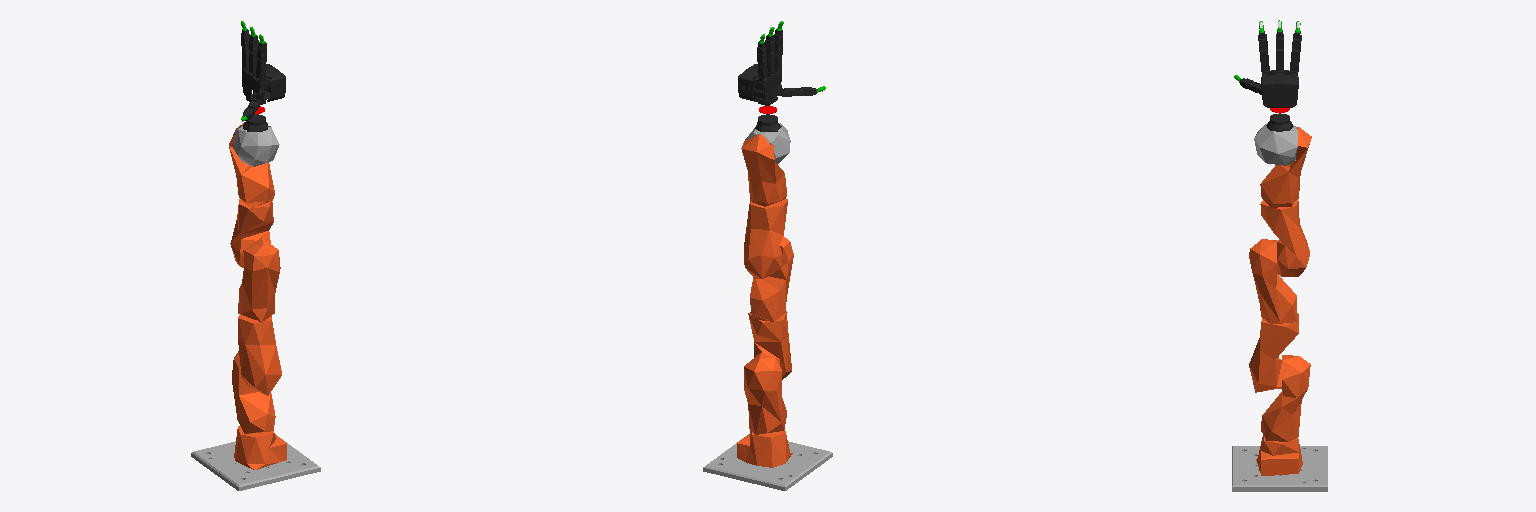
--- Facts derived from the render (not from the file) ---
The picture shows the robot from 3 angles, left to right: view 1: azimuth 30°, elevation 25°; view 2: azimuth 150°, elevation 25°; view 3: azimuth 270°, elevation 25°; orthographic projection.
Robot: lbr4 — 54 links, 53 joints (23 revolute, 30 fixed); root link world; default pose: all joints at 0 but 1 set to mid-range because 0 is outside their limits (thumb_joint_0 = 0.9915).
Visible links, largest first — view 1: lbr4_base_link, lbr4_3_link, lbr4_2_link, lbr4_1_link, lbr4_4_link, lbr4_0_link, lbr4_5_link, lbr4_6_link, palm_link; view 2: lbr4_base_link, lbr4_1_link, lbr4_4_link, lbr4_5_link, lbr4_3_link, lbr4_2_link, lbr4_0_link, palm_link, lbr4_6_link; view 3: lbr4_base_link, lbr4_1_link, lbr4_3_link, lbr4_4_link, lbr4_2_link, lbr4_5_link, lbr4_0_link, lbr4_6_link, palm_link.
Boxes of the visible links, left/top/right/bottom form: lbr4_base_link: left=191, top=437, right=320, bottom=490; lbr4_3_link: left=238, top=237, right=280, bottom=322; lbr4_2_link: left=238, top=314, right=281, bottom=395; lbr4_1_link: left=232, top=351, right=275, bottom=433; lbr4_4_link: left=230, top=199, right=273, bottom=267; lbr4_0_link: left=234, top=426, right=286, bottom=469; lbr4_5_link: left=229, top=122, right=274, bottom=207; lbr4_6_link: left=233, top=126, right=279, bottom=166; palm_link: left=242, top=64, right=285, bottom=104; lbr4_base_link: left=703, top=434, right=832, bottom=490; lbr4_1_link: left=744, top=353, right=786, bottom=434; lbr4_4_link: left=744, top=199, right=787, bottom=278; lbr4_5_link: left=741, top=134, right=786, bottom=206; lbr4_3_link: left=750, top=236, right=793, bottom=321; lbr4_2_link: left=748, top=311, right=791, bottom=379; lbr4_0_link: left=737, top=430, right=792, bottom=467; palm_link: left=738, top=64, right=781, bottom=105; lbr4_6_link: left=745, top=123, right=790, bottom=163; lbr4_base_link: left=1232, top=446, right=1327, bottom=491; lbr4_1_link: left=1261, top=355, right=1310, bottom=441; lbr4_3_link: left=1249, top=239, right=1297, bottom=324; lbr4_4_link: left=1260, top=200, right=1309, bottom=276; lbr4_2_link: left=1249, top=313, right=1298, bottom=392; lbr4_5_link: left=1260, top=127, right=1311, bottom=207; lbr4_0_link: left=1256, top=435, right=1302, bottom=475; lbr4_6_link: left=1254, top=123, right=1297, bottom=165; palm_link: left=1261, top=70, right=1298, bottom=107.
Bounding box of the posed robot: 0.3 × 0.3 × 1.53 m (x, y, z).
38 mesh visuals loaded from 24 distinct referenced files (21 binary STL); not drawn: 3 (reference not matched to a file when rendering).

The robot description file, URDF, robot "lbr4":
<?xml version="1.0" encoding="utf-8"?>
<!-- =================================================================================== -->
<!-- |    This document was autogenerated by xacro from lbr4.robot.xacro               | -->
<!-- |    EDITING THIS FILE BY HAND IS NOT RECOMMENDED                                 | -->
<!-- =================================================================================== -->
<robot name="lbr4">
  <!-- ========================================================================================== -->
  <material name="Green">
    <color rgba="0.0 0.8 0.0 1.0"/>
  </material>
  <material name="LBR4_Grey">
    <color rgba="0.7 0.7 0.7 1.0"/>
  </material>
  <material name="DarkGrey">
    <color rgba="0.3 0.3 0.3 1.0"/>
  </material>
  <material name="Grey2">
    <color rgba="0.9 0.9 0.9 1.0"/>
  </material>
  <material name="Red">
    <color rgba="0.8 0.5 0.5 1.0"/>
  </material>
  <material name="LBR4_White">
    <color rgba="1.0 1.0 1.0 1.0"/>
  </material>
  <material name="LBR4_Black">
    <color rgba="0.2 0.2 0.2 1.0"/>
  </material>
  <material name="Orange">
    <color rgba="1.0 0.423529411765 0.196078431373 1.0"/>
  </material>
  <selfCollide>true</selfCollide>
  <link name="lbr4_base_link">
    <visual>
      <origin rpy="0 0 0" xyz="0 0 0"/>
      <geometry>
        <mesh filename="package://ll4ma_robots_description/meshes/lbr4/base.stl"/>
      </geometry>
      <material name="LBR4_Grey"/>
    </visual>
    <collision>
      <origin rpy="0 0 0" xyz="0 0 0"/>
      <geometry>
        <mesh filename="package://ll4ma_robots_description/meshes/lbr4/base.stl"/>
      </geometry>
    </collision>
  </link>
  <gazebo reference="lbr4_base_link">
    <material>Gazebo/Grey</material>
  </gazebo>
  <!-- joint between {parent} and arm_0_link -->
  <joint name="lbr4_base_link_base" type="fixed">
    <origin rpy="0 0 0" xyz="0.0015 -0.0015 0.019"/>
    <parent link="lbr4_base_link"/>
    <child link="lbr4_0_link"/>
  </joint>
  <link name="lbr4_0_link">
    <inertial>
      <origin rpy="0.503323678478 -0.189146421623 0.277526064738" xyz="0.0099787706820535227 -0.00048169854600738104 -0.25485509312792326"/>
      <mass value="1.5"/>
      <inertia ixx="0.00805112828804" ixy="0" ixz="0" iyy="0.00845152236845" iyz="0" izz="0.00863585824764"/>
    </inertial>
    <visual>
      <origin rpy="0 0 3.14159265359" xyz="0 0 0"/>
      <geometry>
        <mesh filename="package://ll4ma_robots_description/meshes/lbr4/link0.stl"/>
      </geometry>
      <material name="Orange"/>
    </visual>
    <collision>
      <!--origin xyz="0 0 0.0515" rpy="0 0 0" /-->
      <origin rpy="0 0 3.14159265359" xyz="0 0 0"/>
      <geometry>
        <!--cylinder length="0.103" radius="0.08"/-->
        <mesh filename="package://ll4ma_robots_description/meshes/lbr4/collision/link0.stl"/>
      </geometry>
    </collision>
  </link>
  <!-- joint between arm_0_link and arm_1_link -->
  <joint name="lbr4_j0" type="revolute">
    <parent link="lbr4_0_link"/>
    <child link="lbr4_1_link"/>
    <origin rpy="0 0 0" xyz="0 0 0.103"/>
    <axis xyz="0 0 1"/>
    <dynamics damping="5"/>
    <limit effort="176" lower="-2.879" upper="2.879" velocity="1.91"/>
  </joint>
  <link name="lbr4_1_link">
    <inertial>
      <origin rpy="0.239538165056 0.00537995201801 0.0492155584082" xyz="2.1826998880744087e-05 -0.021623840412335664 -0.07915171924289198"/>
      <mass value="1.5"/>
      <inertia ixx="0.0129545076394" ixy="0" ixz="0" iyy="0.0128178432409" iyz="0" izz="0.00442072765916"/>
    </inertial>
    <visual>
      <origin rpy="0 0 3.14159265359" xyz="0 0 0"/>
      <geometry>
        <mesh filename="package://ll4ma_robots_description/meshes/lbr4/link1.stl"/>
      </geometry>
      <material name="Orange"/>
    </visual>
    <collision>
      <!--origin xyz="0 0.017 0.135" rpy="0 0 0" /-->
      <origin rpy="0 0 3.14159265359" xyz="0 0 0"/>
      <geometry>
        <!--box size="0.12 0.16 0.27"/-->
        <mesh filename="package://ll4ma_robots_description/meshes/lbr4/collision/link1.stl"/>
      </geometry>
    </collision>
  </link>
  <!-- joint between arm_1_link and arm_2_link -->
  <joint name="lbr4_j1" type="revolute">
    <parent link="lbr4_1_link"/>
    <child link="lbr4_2_link"/>
    <dynamics damping="5"/>
    <origin rpy="0 0 0" xyz="0 -0.002 0.208"/>
    <axis xyz="0 -1 0"/>
    <limit effort="176" lower="-2.007" upper="2.007" velocity="1.91"/>
  </joint>
  <link name="lbr4_2_link">
    <inertial>
      <origin rpy="0.252444092172 -0.0167820344187 0.0575928285281" xyz="-0.0010097053542516513 0.028478464648332931 0.082033627936009448"/>
      <mass value="1.5"/>
      <inertia ixx="0.0132950018592" ixy="0" ixz="0" iyy="0.0131003199685" iyz="0" izz="0.0044657387969"/>
    </inertial>
    <visual>
      <origin rpy="0 0 3.14159265359" xyz="0 0 0"/>
      <geometry>
        <mesh filename="package://ll4ma_robots_description/meshes/lbr4/link2.stl"/>
      </geometry>
      <material name="Orange"/>
    </visual>
    <collision>
      <!--origin xyz="0 -0.017 0.075" rpy="0 0 0" /-->
      <origin rpy="0 0 3.14159265359" xyz="0 0 0"/>
      <geometry>
        <!--box size="0.12 0.16 0.27"/-->
        <mesh filename="package://ll4ma_robots_description/meshes/lbr4/collision/link2.stl"/>
      </geometry>
    </collision>
  </link>
  <!-- joint between arm_2_link and arm_3_link -->
  <joint name="lbr4_j2" type="revolute">
    <parent link="lbr4_2_link"/>
    <child link="lbr4_3_link"/>
    <dynamics damping="5"/>
    <origin rpy="0 0 0" xyz="0 0 0.1915"/>
    <axis xyz="0 0 1"/>
    <limit effort="100" lower="-2.879" upper="2.879" velocity="2.234"/>
  </joint>
  <link name="lbr4_3_link">
    <inertial>
      <origin rpy="-0.211279484805 -0.0186487662306 -0.00721347462905" xyz="-0.00068512472584392442 0.022787627643261723 -0.078806475454300237"/>
      <mass value="1.5"/>
      <inertia ixx="0.0127763513867" ixy="0" ixz="0" iyy="0.0128011372133" iyz="0" izz="0.0043627376553"/>
    </inertial>
    <visual>
      <origin rpy="0 0 3.14159265359" xyz="0 0 0"/>
      <geometry>
        <mesh filename="package://ll4ma_robots_description/meshes/lbr4/link3.stl"/>
      </geometry>
      <material name="Orange"/>
    </visual>
    <collision>
      <!--origin xyz="0 -0.017 0.135" rpy="0 0 0" /-->
      <origin rpy="0 0 3.14159265359" xyz="0 0 0"/>
      <geometry>
        <!--box size="0.12 0.16 0.27"/-->
        <mesh filename="package://ll4ma_robots_description/meshes/lbr4/collision/link3.stl"/>
      </geometry>
    </collision>
  </link>
  <!-- joint between arm_3_link and arm_4_link -->
  <joint name="lbr4_j3" type="revolute">
    <parent link="lbr4_3_link"/>
    <child link="lbr4_4_link"/>
    <dynamics damping="5"/>
    <origin rpy="0 0 0" xyz="0 0.002 0.2085"/>
    <axis xyz="0 1 0"/>
    <limit effort="100" lower="-2.007" upper="2.007" velocity="2.234"/>
  </joint>
  <link name="lbr4_4_link">
    <inertial>
      <origin rpy="0.259090664398 -0.00225330262131 0.0469419954367" xyz="-0.00025120620404353643 0.027040543208881447 0.082599870266635594"/>
      <mass value="1.5"/>
      <inertia ixx="0.0132276730313" ixy="0" ixz="0" iyy="0.0130734228464" iyz="0" izz="0.00439977729281"/>
    </inertial>
    <visual>
      <origin rpy="0 0 3.14159265359" xyz="0 0 0"/>
      <geometry>
        <mesh filename="package://ll4ma_robots_description/meshes/lbr4/link4.stl"/>
      </geometry>
      <material name="Orange"/>
    </visual>
    <collision>
      <!--origin xyz="0 0.017 0.075" rpy="0 0 0" /-->
      <origin rpy="0 0 3.14159265359" xyz="0 0 0"/>
      <geometry>
        <!--box size="0.12 0.16 0.27"/-->
        <mesh filename="package://ll4ma_robots_description/meshes/lbr4/collision/link4.stl"/>
      </geometry>
    </collision>
  </link>
  <!-- joint between arm_4_link and arm_5_link -->
  <joint name="lbr4_j4" type="revolute">
    <parent link="lbr4_4_link"/>
    <child link="lbr4_5_link"/>
    <dynamics damping="5"/>
    <origin rpy="0 0 0" xyz="0 0 0.1915"/>
    <axis xyz="0 0 1"/>
    <limit effort="100" lower="-2.879" upper="2.879" velocity="3.56"/>
  </joint>
  <link name="lbr4_5_link">
    <inertial>
      <origin rpy="-0.399346437469 -0.0238815557936 0.011018430381" xyz="-7.2951660343995983e-05 0.034300558520003806 -0.082836449419419589"/>
      <mass value="1.5"/>
      <inertia ixx="0.0124407882151" ixy="0" ixz="0" iyy="0.0124710412724" iyz="0" izz="0.00438005667842"/>
    </inertial>
    <visual>
      <origin rpy="0 0 3.14159265359" xyz="0 0 0"/>
      <geometry>
        <mesh filename="package://ll4ma_robots_description/meshes/lbr4/link5.stl"/>
      </geometry>
      <material name="Orange"/>
    </visual>
    <collision>
      <!--origin xyz="0 0.017 0.13" rpy="0 0 0" /-->
      <origin rpy="0 0 3.14159265359" xyz="0 0 0"/>
      <geometry>
        <!--box size="0.12 0.16 0.27"/-->
        <mesh filename="package://ll4ma_robots_description/meshes/lbr4/collision/link5.stl"/>
      </geometry>
    </collision>
  </link>
  <!-- joint between arm_5_link and arm_6_link -->
  <joint name="lbr4_j5" type="revolute">
    <parent link="lbr4_5_link"/>
    <child link="lbr4_6_link"/>
    <dynamics damping="5"/>
    <origin rpy="0 0 0" xyz="0 0 0.199"/>
    <axis xyz="0 -1 0"/>
    <limit effort="38" lower="-2.007" upper="2.007" velocity="3.211"/>
  </joint>
  <link name="lbr4_6_link">
    <inertial>
      <origin rpy="0.0273247151986 -0.416007068876 -0.06463859276" xyz="0.0033265785100209406 -0.00025060639771109469 0.0006250581115164501"/>
      <mass value="0.75"/>
      <inertia ixx="0.00284169077177" ixy="0" ixz="0" iyy="0.00298256896714" iyz="0" izz="0.00296892557443"/>
    </inertial>
    <visual>
      <origin rpy="0 0 3.14159265359" xyz="0 0 0"/>
      <geometry>
        <mesh filename="package://ll4ma_robots_description/meshes/lbr4/link6.stl"/>
      </geometry>
      <material name="LBR4_Grey"/>
    </visual>
    <collision>
      <!--origin xyz="0 0 0" rpy="0 0 0" /-->
      <origin rpy="0 0 3.14159265359" xyz="0 0 0"/>
      <geometry>
        <!--sphere  radius="0.078"/-->
        <mesh filename="package://ll4ma_robots_description/meshes/lbr4/collision/link6.stl"/>
      </geometry>
    </collision>
  </link>
  <!-- joint between arm_6_link and arm_7_link -->
  <joint name="lbr4_j6" type="revolute">
    <parent link="lbr4_6_link"/>
    <child link="lbr4_7_link"/>
    <dynamics damping="5"/>
    <!-- Change to 2 or lower for RTT control in Gazebo -->
    <origin rpy="0 0 0" xyz="0 0 0.078"/>
    <axis xyz="0 0 1"/>
    <limit effort="38" lower="-2.879" upper="2.879" velocity="3.21"/>
  </joint>
  <link name="lbr4_7_link">
    <inertial>
      <origin rpy="-0.00140457256351 -0.0113238487485 -0.621939623896" xyz="-1.0508863000830793e-05 0.00049391465901896074 0.062507829615577853"/>
      <mass value="0.075"/>
      <inertia ixx="5.81502716972e-05" ixy="0" ixz="0" iyy="5.84472283068e-05" iyz="0" izz="9.68983240391e-05"/>
    </inertial>
    <visual>
      <origin rpy="0 0 3.14159265359" xyz="0 0 0"/>
      <geometry>
        <mesh filename="package://ll4ma_robots_description/meshes/lbr4/link7.stl"/>
      </geometry>
      <material name="LBR4_Black"/>
    </visual>
    <collision>
      <!--origin xyz="0 0 0" rpy="0 0 0" /-->
      <origin rpy="0 0 3.14159265359" xyz="0 0 0"/>
      <geometry>
        <mesh filename="package://ll4ma_robots_description/meshes/lbr4/collision/link7.stl"/>
      </geometry>
      <!--origin xyz="0 0 0" rpy="0 0 ${M_PI}" />
        <geometry>
	      <box size="0.05 0.05 0.01"/>	  
        </geometry-->
    </collision>
  </link>
  <!-- Adding this link as our CAD lacks the cap that goes over the wiring coming out of robot -->
  <link name="lbr4_8_link">
    <inertial>
      <origin rpy="0 0 0" xyz="0 0 0"/>
      <mass value="0.05"/>
      <inertia ixx="1.28197916667e-05" ixy="0.0" ixz="0.0" iyy="1.28197916667e-05" iyz="0.0" izz="2.480625e-05"/>
    </inertial>
    <visual>
      <origin rpy="0 0 0" xyz="0 0 0"/>
      <geometry>
        <cylinder length="0.01" radius="0.0315"/>
      </geometry>
      <material name="LBR4_Black"/>
    </visual>
    <collision>
      <origin rpy="0 0 0" xyz="0 0 0"/>
      <geometry>
        <cylinder length="0.01" radius="0.0315"/>
      </geometry>
    </collision>
  </link>
  <joint name="lbr4_j7" type="fixed">
    <parent link="lbr4_7_link"/>
    <child link="lbr4_8_link"/>
    <origin rpy="0 0 0" xyz="0 0 0.005"/>
  </joint>
  <!-- World -->
  <link name="world"/>
  <joint name="world_to_base_joint" type="fixed">
    <origin rpy="0 0 0" xyz="0 0 0.0"/>
    <parent link="world"/>
    <child link="lbr4_base_link"/>
  </joint>
  <!-- Sensor casing model -->
  <link name="optoforce_model_link">
    <inertial>
      <origin rpy="0 0 0" xyz="0.000272851 -0.000221116 0.016537231"/>
      <mass value="0.199"/>
      <inertia ixx="7.44923333333e-05" ixy="0.0" ixz="0.0" iyy="7.44923333333e-05" iyz="0.0" izz="0.0001083555"/>
    </inertial>
    <visual>
      <origin rpy="0 0 0" xyz="0 0 0"/>
      <geometry>
        <mesh filename="package://ll4ma_robots_description/meshes/force_sensors/optoforce_sensor.stl" scale="0.001 0.001 0.001"/>
      </geometry>
      <material name="Grey">
        <color rgba="0.2 0.2 0.2 1"/>
      </material>
    </visual>
    <collision>
      <origin rpy="0 0 0" xyz="0 0 0.015"/>
      <geometry>
        <cylinder length="0.04" radius="0.035"/>
      </geometry>
    </collision>
  </link>
  <!-- The sensing part of the sensor, separate so it doesn't sense weight of sensor itself -->
  <link name="optoforce_sensor_link">
    <inertial>
      <origin rpy="0 0 0" xyz="0 0 0"/>
      <mass value="0.00001"/>
      <inertia ixx="1e-08" ixy="0.0" ixz="0.0" iyy="1e-08" iyz="0.0" izz="1e-08"/>
    </inertial>
    <visual>
      <origin rpy="0 0 0" xyz="0 0 0.0045"/>
      <geometry>
        <cylinder length="0.001" radius="0.03"/>
      </geometry>
      <material name="">
        <color rgba="1.0 0.0 0.0 0.1"/>
      </material>
    </visual>
    <collision>
      <origin rpy="0 0 0" xyz="0 0 0.0045"/>
      <geometry>
        <cylinder length="0.001" radius="0.03"/>
      </geometry>
    </collision>
  </link>
  <joint name="optoforce_sensor_joint" type="fixed">
    <origin rpy="0 0 0.0" xyz="0 0 0.0305"/>
    <parent link="optoforce_model_link"/>
    <child link="optoforce_sensor_link"/>
  </joint>
  <joint name="optoforce_to_lbr4" type="fixed">
    <parent link="lbr4_8_link"/>
    <child link="optoforce_model_link"/>
    <origin rpy="0 0 -1.57" xyz="0 0 0"/>
  </joint>
  <link name="optoforce_offset_link">
    <inertial>
      <origin rpy="0 0 0" xyz="0 0 0"/>
      <mass value="0.00001"/>
      <inertia ixx="1e-08" ixy="0.0" ixz="0.0" iyy="1e-08" iyz="0.0" izz="1e-08"/>
    </inertial>
  </link>
  <joint name="optoforce_offset_to_lbr4" type="fixed">
    <parent link="optoforce_sensor_link"/>
    <child link="optoforce_offset_link"/>
    <origin rpy="0 0 1.57" xyz="0 0 0"/>
  </joint>
  <!-- ========================================================================================= -->
  <!-- removing control urdf for now -->
  <!--xacro:if value="$(arg control)">
    <xacro:include filename="$(find ll4ma_robots_description)/urdf/allegro_right/allegro_control.urdf.xacro"/>
  </xacro:if>
  <xacro:unless value="$(arg control)"-->
  <!-- ======================== BASE PARAMS ========================= -->
  <!-- ======================== FINGER PARAMS ======================== -->
  <!-- full height from joint to tip. when used,
       the radius of the finger tip sphere will be subtracted
       and one fixed link will be added for the tip. -->
  <!-- ========================= THUMB PARAMS ========================= -->
  <!-- ========================= LIMITS ========================= -->
  <!-- ============================================================================= -->
  <!-- BASE -->
  <material name="Black">
    <color rgba="0.2 0.2 0.2 1"/>
  </material>
  <material name="Grey">
    <color rgba="0.2 0.2 0.2 1"/>
  </material>
  <material name="White">
    <color rgba="1 1 1 1"/>
  </material>
  <link name="allegro_mount">
    <inertial>
      <mass value="0.191"/>
      <origin rpy="0 0 0" xyz="0 0 0"/>
      <inertia ixx="1e-4" ixy="0" ixz="0" iyy="1e-4" iyz="0" izz="1e-4"/>
    </inertial>
    <visual>
      <origin rpy="0 0 0" xyz="-0.0 -0.0425 -0.0425"/>
      <geometry>
        <mesh filename="package://ll4ma_robots_description/meshes/mounts/allegro_mount.stl"/>
      </geometry>
      <material name="Grey"/>
    </visual>
    <collision>
      <origin rpy="0 0 0" xyz="-0.0 -0.0425 -0.0425"/>
      <geometry>
        <mesh filename="package://ll4ma_robots_description/meshes/mounts/allegro_mount.stl"/>
      </geometry>
    </collision>
  </link>
  <joint name="allegro_mount_joint" type="fixed">
    <origin rpy="0 1.5708 0" xyz="0.108 0 -0.008"/>
    <parent link="allegro_mount"/>
    <child link="palm_link"/>
  </joint>
  <gazebo reference="allegro_mount">
    <material>Gazebo/Grey</material>
  </gazebo>
  <link name="palm_link">
    <inertial>
      <mass value="0.415"/>
      <origin rpy="0 0 0" xyz="0 0 0"/>
      <inertia ixx="1e-4" ixy="0" ixz="0" iyy="1e-4" iyz="0" izz="1e-4"/>
    </inertial>
    <visual>
      <geometry>
        <mesh filename="package://ll4ma_robots_description/meshes/allegro/base_link_biotac.stl"/>
      </geometry>
      <origin rpy="0 0 0" xyz="0 0 0 "/>
      <material name="Black"/>
    </visual>
    <collision>
      <geometry>
        <mesh filename="package://ll4ma_robots_description/meshes/allegro/collision/base_link_biotac.stl"/>
      </geometry>
      <origin rpy="0 0 0" xyz="0 0 0 "/>
    </collision>
  </link>
  <gazebo reference="palm_link">
    <material value="Gazebo/Black"/>
  </gazebo>
  <!-- ============================================================================= -->
  <!-- FINGERS -->
  <!-- RIGHT HAND due to which finger is number 0 -->
  <!-- for LEFT HAND switch the sign of the **offset_origin_y** and **finger_angle_r** parameters-->
  <!-- [LINK 0, 4, 8] -->
  <link name="index_link_0">
    <visual>
      <geometry>
        <mesh filename="package://ll4ma_robots_description/meshes/allegro/link_0.0.stl"/>
      </geometry>
      <material name="Black"/>
    </visual>
    <collision>
      <geometry>
        <mesh filename="package://ll4ma_robots_description/meshes/allegro/collision/link_0.0.stl"/>
      </geometry>
    </collision>
    <inertial>
      <mass value="0.0119"/>
      <origin rpy="0 0 0" xyz="0 0 0"/>
      <inertia ixx="1.01666658333e-06" ixy="0.0" ixz="0.0" iyy="6.47677333333e-07" iyz="0.0" izz="1.01666658333e-06"/>
    </inertial>
  </link>
  <gazebo reference="index_link_0">
    <material value="Gazebo/Black"/>
  </gazebo>
  <joint name="index_joint_0" type="revolute">
    <axis xyz="0 0 1"/>
    <limit effort="15" lower="-0.59" upper="0.57" velocity="7"/>
    <parent link="palm_link"/>
    <child link="index_link_0"/>
    <origin rpy="-0.08726646255 0 0" xyz="0 0.0435 -0.001542"/>
    <dynamics damping="1" friction="0"/>
  </joint>
  <!-- [LINK 1, 5, 9] -->
  <link name="index_link_1">
    <visual>
      <geometry>
        <mesh filename="package://ll4ma_robots_description/meshes/allegro/link_1.0.stl"/>
      </geometry>
      <material name="Black"/>
    </visual>
    <collision>
      <geometry>
        <mesh filename="package://ll4ma_robots_description/meshes/allegro/collision/link_1.0.stl"/>
      </geometry>
      <!--geometry>
        <box size="0.0196 0.0275 0.054"/>
      </geometry>
      <origin rpy="0 0 0" xyz="0 0 0.027"/-->
    </collision>
    <inertial>
      <mass value="0.065"/>
      <origin rpy="0 0 0" xyz="0 0 0"/>
      <inertia ixx="7.95654166667e-05" ixy="1.7199e-05" ixz="8.75875e-06" iyy="2.47088833333e-05" iyz="2.413125e-05" izz="7.95654166667e-05"/>
    </inertial>
  </link>
  <gazebo reference="index_link_1">
    <material value="Gazebo/Black"/>
  </gazebo>
  <joint name="index_joint_1" type="revolute">
    <limit effort="15" lower="-0.296" upper="1.71" velocity="7"/>
    <axis xyz="0 1 0"/>
    <parent link="index_link_0"/>
    <child link="index_link_1"/>
    <origin xyz="0 0 0.0164"/>
    <dynamics damping="1" friction="0"/>
  </joint>
  <!-- [LINK 2, 6, 10]-->
  <link name="index_link_2">
    <visual>
      <geometry>
        <mesh filename="package://ll4ma_robots_description/meshes/allegro/link_2.0.stl"/>
      </geometry>
      <material name="Black"/>
    </visual>
    <collision>
      <geometry>
        <mesh filename="package://ll4ma_robots_description/meshes/allegro/collision/link_2.0.stl"/>
      </geometry>
      <!--geometry>
        <box size="0.0196 0.0275 0.0384"/>
      </geometry>
      <origin rpy="0 0 0" xyz="0 0 0.0192"/-->
    </collision>
    <inertial>
      <mass value="0.0355"/>
      <origin rpy="0 0 0" xyz="0 0 0"/>
      <inertia ixx="2.63979183333e-05" ixy="6.67968e-06" ixz="4.783625e-06" iyy="1.34948516667e-05" iyz="9.372e-06" izz="2.63979183333e-05"/>
    </inertial>
  </link>
  <gazebo reference="index_link_2">
    <material value="Gazebo/Black"/>
  </gazebo>
  <joint name="index_joint_2" type="revolute">
    <axis xyz="0 1 0"/>
    <limit effort="15" lower="-0.274" upper="1.809" velocity="7"/>
    <parent link="index_link_1"/>
    <child link="index_link_2"/>
    <origin xyz="0 0 0.054"/>
    <dynamics damping="1" friction="0"/>
  </joint>
  <!-- [LINK 3, 7, 11] -->
  <link name="index_link_3">
    <visual>
      <geometry>
        <mesh filename="package://ll4ma_robots_description/meshes/allegro/link_3.0.stl"/>
      </geometry>
      <material name="Black"/>
    </visual>
    <collision>
      <geometry>
        <mesh filename="package://ll4ma_robots_description/meshes/allegro/collision/link_3.0.stl"/>
      </geometry>
      <!--geometry>
        <box size="0.0196 0.0275 0.0267"/>
      </geometry-->
      <!--origin rpy="0 0 0" xyz="0 0 0.01335"/-->
    </collision>
    <inertial>
      <mass value="0.0096"/>
      <origin rpy="0 0 0" xyz="0 0 0"/>
      <inertia ixx="4.701248e-06" ixy="1.255968e-06" ixz="1.2936e-06" iyy="3.649312e-06" iyz="1.7622e-06" izz="4.701248e-06"/>
    </inertial>
  </link>
  <gazebo reference="index_link_3">
    <material value="Gazebo/Black"/>
  </gazebo>
  <joint name="index_joint_3" type="revolute">
    <axis xyz="0 1 0"/>
    <limit effort="15" lower="-0.327" upper="1.718" velocity="7"/>
    <parent link="index_link_2"/>
    <child link="index_link_3"/>
    <origin xyz="0 0 0.0384"/>
    <dynamics damping="10" friction="0"/>
  </joint>
  <!-- [LINK 0, 4, 8] -->
  <link name="middle_link_0">
    <visual>
      <geometry>
        <mesh filename="package://ll4ma_robots_description/meshes/allegro/link_0.0.stl"/>
      </geometry>
      <material name="Black"/>
    </visual>
    <collision>
      <geometry>
        <mesh filename="package://ll4ma_robots_description/meshes/allegro/collision/link_0.0.stl"/>
      </geometry>
      <!--geometry>
        <box size="0.0196 0.0275 0.0164"/>
      </geometry>
      <origin rpy="0 0 0" xyz="0 0 0.0082"/-->
    </collision>
    <inertial>
      <mass value="0.0119"/>
      <origin rpy="0 0 0" xyz="0 0 0"/>
      <inertia ixx="1.01666658333e-06" ixy="0.0" ixz="0.0" iyy="6.47677333333e-07" iyz="0.0" izz="1.01666658333e-06"/>
    </inertial>
  </link>
  <gazebo reference="middle_link_0">
    <material value="Gazebo/Black"/>
  </gazebo>
  <joint name="middle_joint_0" type="revolute">
    <axis xyz="0 0 1"/>
    <limit effort="15" lower="-0.59" upper="0.57" velocity="7"/>
    <parent link="palm_link"/>
    <child link="middle_link_0"/>
    <origin rpy="0.0 0 0" xyz="0 0 0.0007"/>
    <dynamics damping="1" friction="0"/>
  </joint>
  <!-- [LINK 1, 5, 9] -->
  <link name="middle_link_1">
    <visual>
      <geometry>
        <mesh filename="package://ll4ma_robots_description/meshes/allegro/link_1.0.stl"/>
      </geometry>
      <material name="Black"/>
    </visual>
    <collision>
      <geometry>
        <mesh filename="package://ll4ma_robots_description/meshes/allegro/collision/link_1.0.stl"/>
      </geometry>
      <!--geometry>
        <box size="0.0196 0.0275 0.054"/>
      </geometry>
      <origin rpy="0 0 0" xyz="0 0 0.027"/-->
    </collision>
    <inertial>
      <mass value="0.065"/>
      <origin rpy="0 0 0" xyz="0 0 0"/>
      <inertia ixx="7.95654166667e-05" ixy="1.7199e-05" ixz="8.75875e-06" iyy="2.47088833333e-05" iyz="2.413125e-05" izz="7.95654166667e-05"/>
    </inertial>
  </link>
  <gazebo reference="middle_link_1">
    <material value="Gazebo/Black"/>
  </gazebo>
  <joint name="middle_joint_1" type="revolute">
    <limit effort="15" lower="-0.296" upper="1.71" velocity="7"/>
    <axis xyz="0 1 0"/>
    <parent link="middle_link_0"/>
    <child link="middle_link_1"/>
    <origin xyz="0 0 0.0164"/>
    <dynamics damping="1" friction="0"/>
  </joint>
  <!-- [LINK 2, 6, 10]-->
  <link name="middle_link_2">
    <visual>
      <geometry>
        <mesh filename="package://ll4ma_robots_description/meshes/allegro/link_2.0.stl"/>
      </geometry>
      <material name="Black"/>
    </visual>
    <collision>
      <geometry>
        <mesh filename="package://ll4ma_robots_description/meshes/allegro/collision/link_2.0.stl"/>
      </geometry>
      <!--geometry>
        <box size="0.0196 0.0275 0.0384"/>
      </geometry>
      <origin rpy="0 0 0" xyz="0 0 0.0192"/-->
    </collision>
    <inertial>
      <mass value="0.0355"/>
      <origin rpy="0 0 0" xyz="0 0 0"/>
      <inertia ixx="2.63979183333e-05" ixy="6.67968e-06" ixz="4.783625e-06" iyy="1.34948516667e-05" iyz="9.372e-06" izz="2.63979183333e-05"/>
    </inertial>
  </link>
  <gazebo reference="middle_link_2">
    <material value="Gazebo/Black"/>
  </gazebo>
  <joint name="middle_joint_2" type="revolute">
    <axis xyz="0 1 0"/>
    <limit effort="15" lower="-0.274" upper="1.809" velocity="7"/>
    <parent link="middle_link_1"/>
    <child link="middle_link_2"/>
    <origin xyz="0 0 0.054"/>
    <dynamics damping="1" friction="0"/>
  </joint>
  <!-- [LINK 3, 7, 11] -->
  <link name="middle_link_3">
    <visual>
      <geometry>
        <mesh filename="package://ll4ma_robots_description/meshes/allegro/link_3.0.stl"/>
      </geometry>
      <material name="Black"/>
    </visual>
    <collision>
      <geometry>
        <mesh filename="package://ll4ma_robots_description/meshes/allegro/collision/link_3.0.stl"/>
      </geometry>
      <!--geometry>
        <box size="0.0196 0.0275 0.0267"/>
      </geometry>
      <origin rpy="0 0 0" xyz="0 0 0.01335"/-->
    </collision>
    <inertial>
      <mass value="0.0096"/>
      <origin rpy="0 0 0" xyz="0 0 0"/>
      <inertia ixx="4.701248e-06" ixy="1.255968e-06" ixz="1.2936e-06" iyy="3.649312e-06" iyz="1.7622e-06" izz="4.701248e-06"/>
    </inertial>
  </link>
  <gazebo reference="middle_link_3">
    <material value="Gazebo/Black"/>
  </gazebo>
  <joint name="middle_joint_3" type="revolute">
    <axis xyz="0 1 0"/>
    <limit effort="15" lower="-0.327" upper="1.718" velocity="7"/>
    <parent link="middle_link_2"/>
    <child link="middle_link_3"/>
    <origin xyz="0 0 0.0384"/>
    <dynamics damping="10" friction="0"/>
  </joint>
  <!-- [LINK 0, 4, 8] -->
  <link name="ring_link_0">
    <visual>
      <geometry>
        <mesh filename="package://ll4ma_robots_description/meshes/allegro/link_0.0.stl"/>
      </geometry>
      <material name="Black"/>
    </visual>
    <collision>
      <geometry>
        <mesh filename="package://ll4ma_robots_description/meshes/allegro/collision/link_0.0.stl"/>
      </geometry>
      <!--geometry>
        <box size="0.0196 0.0275 0.0164"/>
      </geometry>
      <origin rpy="0 0 0" xyz="0 0 0.0082"/-->
    </collision>
    <inertial>
      <mass value="0.0119"/>
      <origin rpy="0 0 0" xyz="0 0 0"/>
      <inertia ixx="1.01666658333e-06" ixy="0.0" ixz="0.0" iyy="6.47677333333e-07" iyz="0.0" izz="1.01666658333e-06"/>
    </inertial>
  </link>
  <gazebo reference="ring_link_0">
    <material value="Gazebo/Black"/>
  </gazebo>
  <joint name="ring_joint_0" type="revolute">
    <axis xyz="0 0 1"/>
    <limit effort="15" lower="-0.59" upper="0.57" velocity="7"/>
    <parent link="palm_link"/>
    <child link="ring_link_0"/>
    <origin rpy="0.08726646255 0 0" xyz="0 -0.0435 -0.001542"/>
    <dynamics damping="1" friction="0"/>
  </joint>
  <!-- [LINK 1, 5, 9] -->
  <link name="ring_link_1">
    <visual>
      <geometry>
        <mesh filename="package://ll4ma_robots_description/meshes/allegro/link_1.0.stl"/>
      </geometry>
      <material name="Black"/>
    </visual>
    <collision>
      <geometry>
        <mesh filename="package://ll4ma_robots_description/meshes/allegro/collision/link_1.0.stl"/>
      </geometry>
      <!--geometry>
        <box size="0.0196 0.0275 0.054"/>
      </geometry>
      <origin rpy="0 0 0" xyz="0 0 0.027"/-->
    </collision>
    <inertial>
      <mass value="0.065"/>
      <origin rpy="0 0 0" xyz="0 0 0"/>
      <inertia ixx="7.95654166667e-05" ixy="1.7199e-05" ixz="8.75875e-06" iyy="2.47088833333e-05" iyz="2.413125e-05" izz="7.95654166667e-05"/>
    </inertial>
  </link>
  <gazebo reference="ring_link_1">
    <material value="Gazebo/Black"/>
  </gazebo>
  <joint name="ring_joint_1" type="revolute">
    <limit effort="15" lower="-0.296" upper="1.71" velocity="7"/>
    <axis xyz="0 1 0"/>
    <parent link="ring_link_0"/>
    <child link="ring_link_1"/>
    <origin xyz="0 0 0.0164"/>
    <dynamics damping="1" friction="0"/>
  </joint>
  <!-- [LINK 2, 6, 10]-->
  <link name="ring_link_2">
    <visual>
      <geometry>
        <mesh filename="package://ll4ma_robots_description/meshes/allegro/link_2.0.stl"/>
      </geometry>
      <material name="Black"/>
    </visual>
    <collision>
      <geometry>
        <mesh filename="package://ll4ma_robots_description/meshes/allegro/collision/link_2.0.stl"/>
      </geometry>
      <!--geometry>
        <box size="0.0196 0.0275 0.0384"/>
      </geometry>
      <origin rpy="0 0 0" xyz="0 0 0.0192"/-->
    </collision>
    <inertial>
      <mass value="0.0355"/>
      <origin rpy="0 0 0" xyz="0 0 0"/>
      <inertia ixx="2.63979183333e-05" ixy="6.67968e-06" ixz="4.783625e-06" iyy="1.34948516667e-05" iyz="9.372e-06" izz="2.63979183333e-05"/>
    </inertial>
  </link>
  <gazebo reference="ring_link_2">
    <material value="Gazebo/Black"/>
  </gazebo>
  <joint name="ring_joint_2" type="revolute">
    <axis xyz="0 1 0"/>
    <limit effort="15" lower="-0.274" upper="1.809" velocity="7"/>
    <parent link="ring_link_1"/>
    <child link="ring_link_2"/>
    <origin xyz="0 0 0.054"/>
    <dynamics damping="1" friction="0"/>
  </joint>
  <!-- [LINK 3, 7, 11] -->
  <link name="ring_link_3">
    <visual>
      <geometry>
        <mesh filename="package://ll4ma_robots_description/meshes/allegro/link_3.0.stl"/>
      </geometry>
      <material name="Black"/>
    </visual>
    <collision>
      <geometry>
        <mesh filename="package://ll4ma_robots_description/meshes/allegro/collision/link_3.0.stl"/>
      </geometry>
      <!--geometry>

        <box size="0.0196 0.0275 0.0267"/>
      </geometry>
      <origin rpy="0 0 0" xyz="0 0 0.01335"/-->
    </collision>
    <inertial>
      <mass value="0.0096"/>
      <origin rpy="0 0 0" xyz="0 0 0"/>
      <inertia ixx="4.701248e-06" ixy="1.255968e-06" ixz="1.2936e-06" iyy="3.649312e-06" iyz="1.7622e-06" izz="4.701248e-06"/>
    </inertial>
  </link>
  <gazebo reference="ring_link_3">
    <material value="Gazebo/Black"/>
  </gazebo>
  <joint name="ring_joint_3" type="revolute">
    <axis xyz="0 1 0"/>
    <limit effort="15" lower="-0.327" upper="1.718" velocity="7"/>
    <parent link="ring_link_2"/>
    <child link="ring_link_3"/>
    <origin xyz="0 0 0.0384"/>
    <dynamics damping="10" friction="0"/>
  </joint>
  <!-- THUMB -->
  <!-- [LINK 12] -->
  <link name="thumb_link_0">
    <visual>
      <geometry>
        <mesh filename="package://ll4ma_robots_description/meshes/allegro/link_12.0_right.stl"/>
      </geometry>
      <material name="Black"/>
    </visual>
    <collision>
      <geometry>
        <mesh filename="package://ll4ma_robots_description/meshes/allegro/collision/link_12.0_right.stl"/>
      </geometry>
      <!--geometry>
        <box size="0.0358 0.034 0.0455"/>
      </geometry>
      <origin rpy="0 0 0" xyz="-0.0179 0.009 0.0145"/-->
    </collision>
    <inertial>
      <mass value="0.0176"/>
      <origin rpy="0 0 0" xyz="0 0 0"/>
      <inertia ixx="1.89273333333e-5" ixy="7.16716e-06" ixz="5.35568e-06" iyy="1.43008213333e-05" iyz="6.8068e-06" izz="1.89273333333e-05"/>
    </inertial>
  </link>
  <gazebo reference="thumb_link_0">
    <material value="Gazebo/Black"/>
  </gazebo>
  <joint name="thumb_joint_0" type="revolute">
    <axis xyz="-1 0 0"/>
    <limit effort="15" lower="0.363" upper="1.62" velocity="7"/>
    <parent link="palm_link"/>
    <child link="thumb_link_0"/>
    <!--origin rpy="0 -1.65806278845 -1.5707963259" xyz="-0.0182 0.019333 -0.045987"/-->
    <origin rpy="0 -1.65806278845 -1.417963259" xyz="-0.0182 0.022333 -0.045987"/>
    <dynamics damping="1" friction="0"/>
  </joint>
  <!-- [LINK 13] -->
  <link name="thumb_link_1">
    <visual>
      <geometry>
        <mesh filename="package://ll4ma_robots_description/meshes/allegro/link_13.0.stl"/>
      </geometry>
      <material name="Black"/>
    </visual>
    <collision>
      <geometry>
        <mesh filename="package://ll4ma_robots_description/meshes/allegro/collision/link_13.0.stl"/>
      </geometry>
      <!--geometry>
        <box size="0.0196 0.0275 0.0177"/>
      </geometry>
      <origin rpy="0 0 0" xyz="0 0 0.00885"/-->
    </collision>
    <inertial>
      <mass value="0.0119"/>
      <origin rpy="0 0 0" xyz="0 0 0"/>
      <inertia ixx="4.24250866667e-06" ixy="1.032087e-06" ixz="1.603525e-06" iyy="4.52362633333e-06" iyz="1.44808125e-06" izz="4.24250866667e-06"/>
    </inertial>
  </link>
  <gazebo reference="thumb_link_1">
    <material value="Gazebo/Black"/>
  </gazebo>
  <joint name="thumb_joint_1" type="revolute">
    <axis xyz="0 0 1"/>
    <limit effort="15" lower="-0.205" upper="1.263" velocity="7"/>
    <parent link="thumb_link_0"/>
    <child link="thumb_link_1"/>
    <origin xyz="-0.027 0.005 0.0399"/>
    <dynamics damping="1" friction="0"/>
  </joint>
  <!-- [LINK 14] -->
  <link name="thumb_link_2">
    <visual>
      <geometry>
        <mesh filename="package://ll4ma_robots_description/meshes/allegro/link_14.0.stl"/>
      </geometry>
      <material name="Black">
      </material>
    </visual>
    <collision>
      <geometry>
        <mesh filename="package://ll4ma_robots_description/meshes/allegro/collision/link_14.0.stl"/>
      </geometry>
      <!--geometry>
        <box size="0.0196 0.0275 0.0514"/>
      </geometry>
      <origin rpy="0 0 0" xyz="0 0 0.0257"/-->
    </collision>
    <inertial>
      <mass value="0.038"/>
      <origin rpy="0 0 0" xyz="0 0 0"/>
      <inertia ixx="4.30439933333e-05" ixy="9.57068e-06" ixz="5.1205e-06" iyy="1.44451933333e-05" iyz="1.342825e-05" izz="4.30439933333e-05"/>
    </inertial>
  </link>
  <gazebo reference="thumb_link_2">
    <material value="Gazebo/Black"/>
  </gazebo>
  <joint name="thumb_joint_2" type="revolute">
    <axis xyz="0 1 0"/>
    <limit effort="15" lower="-0.289" upper="1.744" velocity="7"/>
    <parent link="thumb_link_1"/>
    <child link="thumb_link_2"/>
    <origin xyz="0 0 0.0177"/>
    <dynamics damping="1" friction="0"/>
  </joint>
  <!-- [LINK 15] -->
  <link name="thumb_link_3">
    <visual>
      <geometry>
        <mesh filename="package://ll4ma_robots_description/meshes/allegro/link_15.0.stl"/>
      </geometry>
      <material name="Black">
      </material>
      <origin rpy="0 0 0" xyz="0 0 0.00"/>
    </visual>
    <collision>
      <geometry>
        <mesh filename="package://ll4ma_robots_description/meshes/allegro/collision/link_15.0.stl"/>
      </geometry>
      <origin rpy="0 0 0" xyz="0 0 -0.0"/>
      <!--geometry>
        <box size="0.0196 0.0275 0.0423"/>
      </geometry>
      <origin rpy="0 0 0" xyz="0 0 0.02115"/-->
    </collision>
    <inertial>
      <mass value="0.0388"/>
      <origin rpy="0 0 0" xyz="0 0 0"/>
      <inertia ixx="3.29223173333e-05" ixy="8.042076e-06" ixz="5.2283e-06" iyy="1.47493026667e-5" iyz="1.1283525e-5" izz="3.29223173333e-05"/>
    </inertial>
  </link>
  <gazebo reference="thumb_link_3">
    <material value="Gazebo/Black"/>
  </gazebo>
  <joint name="thumb_joint_3" type="revolute">
    <axis xyz="0 1 0"/>
    <limit effort="15" lower="-0.262" upper="1.819" velocity="7"/>
    <parent link="thumb_link_2"/>
    <child link="thumb_link_3"/>
    <origin xyz="0 0 0.051"/>
    <dynamics damping="1" friction="0"/>
  </joint>
  <link name="thumb_link_3_offset">
    <inertial>
      <mass value="0.00001"/>
      <origin rpy="0 0 0" xyz="0 0 0"/>
      <inertia ixx="9.68e-07" ixy="0" ixz="0" iyy="9.68e-07" iyz="0" izz="9.68e-07"/>
    </inertial>
  </link>
  <joint name="thumb_end_link_3" type="fixed">
    <parent link="thumb_link_3"/>
    <child link="thumb_link_3_offset"/>
    <origin xyz="0 0 0.015"/>
  </joint>
  <!-- ============================================================================= -->
  <!-- THUMB MACRO -->
  <!-- END THUMB MACRO -->
  <!-- THREE FINGER MACRO -->
  <!-- [[END]] THREE FINGER MACRO -->
  <klampt freeze_root_link="1" package_root="../" use_vis_geom="1">
    <link name="index_link_0" servoD="15" servoI="0" servoP="600"/>
    <link name="index_link_1" servoD="20" servoI="0" servoP="600"/>
    <link name="index_link_2" servoD="15" servoI="0" servoP="600"/>
    <link name="index_link_3" servoD="15" servoI="0" servoP="1000"/>
    <link name="middle_link_0" servoD="15" servoI="0" servoP="600"/>
    <link name="middle_link_1" servoD="20" servoI="0" servoP="600"/>
    <link name="middle_link_2" servoD="15" servoI="0" servoP="600"/>
    <link name="middle_link_3" servoD="15" servoI="0" servoP="1000"/>
    <link name="ring_link_0" servoD="15" servoI="0" servoP="600"/>
    <link name="ring_link_1" servoD="20" servoI="0" servoP="600"/>
    <link name="ring_link_2" servoD="15" servoI="0" servoP="600"/>
    <link name="ring_link_3" servoD="15" servoI="0" servoP="1000"/>
    <link name="thumb_link_0" servoD="30" servoI="0" servoP="1000"/>
    <link name="thumb_link_1" servoD="20" servoI="0" servoP="1000"/>
    <link name="thumb_link_2" servoD="20" servoI="0" servoP="1000"/>
    <link name="thumb_link_3" servoD="15" servoI="0" servoP="1000"/>
  </klampt>
  <link name="index_tip">
    <visual>
      <!--origin rpy="0.1 0 1.57" xyz="0.0102 -0.01  -0.055" /-->
      <origin rpy="0.0 1.57 1.57" xyz="-0.00277 0.0  -0.00545"/>
      <geometry>
        <mesh filename="package://ll4ma_robots_description/meshes/biotac/base_visual.stl"/>
      </geometry>
      <material name="Grey">
        <color rgba="0.2 0.2 0.2 1"/>
      </material>
    </visual>
    <collision>
      <origin rpy="0.0 1.57 1.57" xyz="-0.00277 0.0  -0.00545"/>
      <geometry>
        <mesh filename="package://ll4ma_robots_description/meshes/biotac/base_collision.stl"/>
      </geometry>
    </collision>
    <inertial>
      <mass value="0.021"/>
      <origin rpy="0 0 0" xyz="0 0 0"/>
      <inertia ixx="9.68e-07" ixy="0" ixz="0" iyy="9.68e-07" iyz="0" izz="9.68e-07"/>
    </inertial>
  </link>
  <joint name="index_tip_joint" type="fixed">
    <parent link="index_link_3"/>
    <child link="index_tip"/>
    <origin rpy="0 0 0" xyz="0.008 0.0 0.04"/>
  </joint>
  <link name="index_biotac_nail">
    <visual>
      <origin rpy="0 0 0.0" xyz="0.00 -0.00  -0.0"/>
      <geometry>
        <mesh filename="package://ll4ma_robots_description/meshes/biotac/nail_visual.stl"/>
      </geometry>
      <material name="White">
        <color rgba="1 1 1 1"/>
      </material>
    </visual>
    <collision>
      <origin rpy="0 0 0.0" xyz="0.00 -0.00  -0.0"/>
      <geometry>
        <mesh filename="package://ll4ma_robots_description/meshes/biotac/nail_collision.stl"/>
      </geometry>
      <material name="White">
        <color rgba="1.0 1.0 1.0 1"/>
      </material>
    </collision>
    <inertial>
      <mass value="0.00001"/>
      <origin rpy="0 0 0" xyz="0 0 0"/>
      <inertia ixx="9.68e-07" ixy="0" ixz="0" iyy="9.68e-07" iyz="0" izz="9.68e-07"/>
    </inertial>
  </link>
  <joint name="index_biotac_nail_joint" type="fixed">
    <origin rpy="-1.57 1.57 0" xyz="-0.0022 0.0 -0.0055"/>
    <!--axis xyz="0 0 1"/-->
    <parent link="index_tip"/>
    <child link="index_biotac_nail"/>
  </joint>
  <link name="index_biotac_tip">
    <visual>
      <origin rpy="1.57 0.351 3.141" xyz="-0.021 -0.002  -0.004"/>
      <geometry>
        <mesh filename="package://ll4ma_robots_description/meshes/biotac/contact_visual.stl"/>
      </geometry>
      <material name="Green">
        <color rgba="0.0 0.8 .0 1"/>
      </material>
    </visual>
    <collision>
      <origin rpy="1.57 0.351 3.141" xyz="-0.021 -0.002  -0.004"/>
      <geometry>
        <mesh filename="package://ll4ma_robots_description/meshes/biotac/contact_collision_small.stl"/>
      </geometry>
      <material name="Green">
        <color rgba="0.0 0.8 .0 1"/>
      </material>
    </collision>
    <inertial>
      <mass value="0.00001"/>
      <origin rpy="0 0 0" xyz="0 0 0"/>
      <inertia ixx="9.68e-07" ixy="0" ixz="0" iyy="9.68e-07" iyz="0" izz="9.68e-07"/>
    </inertial>
  </link>
  <joint name="index_biotac_joint" type="fixed">
    <origin rpy="1.57  0. -2.791" xyz="-0.021 -0.003 0.002"/>
    <!--axis xyz="0 0 1"/-->
    <parent link="index_biotac_nail"/>
    <child link="index_biotac_tip"/>
  </joint>
  <link name="index_biotac_origin">
    <inertial>
      <mass value="0.00001"/>
      <origin rpy="0 0 0" xyz="0 0 0"/>
      <inertia ixx="9.68e-07" ixy="0" ixz="0" iyy="9.68e-07" iyz="0" izz="9.68e-07"/>
    </inertial>
  </link>
  <joint name="index_tip_bt" type="fixed">
    <origin rpy="0.0 -1.22129414408 0.0" xyz="0.0005 0.00155 0.0155"/>
    <!--origin rpy="${0.0 * pi} ${-0.38875 * pi} ${0.0 * pi}" xyz="0.0005 0.00155 0.0155"/-->
    <parent link="index_tip"/>
    <child link="index_biotac_origin"/>
  </joint>
  <!-- virtual link on surface of the biotac -->
  <link name="index_biotac_surface">
    <!--  <visual>
	<origin rpy="1.57 0.351 3.141" xyz="-0.021 -0.002  -0.004" />
        <geometry>
          <mesh filename="package://ll4ma_robots_description/meshes/biotac/contact_visual.stl" />
        </geometry>
        <material name="Green">
          <color rgba="0.0 0.8 .0 1" />
        </material>
      </visual>
      <collision>
	<origin rpy="1.57 0.351 3.141" xyz="-0.021 -0.002  -0.004" />
        <geometry>
          <mesh filename="package://ll4ma_robots_description/meshes/biotac/contact_collision_small.stl" />
        </geometry>
        <material name="Green">
          <color rgba="0.0 0.8 .0 1" />
        </material>
    </collision>
    <inertial>
        <mass value="0.00001" />
        <origin xyz="0 0 0" rpy="0 0 0" />
        <inertia ixx="9.68e-07" ixy="0" ixz="0" iyy="9.68e-07" iyz="0" izz="9.68e-07" />
    </inertial>
    -->
  </link>
  <joint name="index_biotac_surface_joint" type="fixed">
    <origin rpy="0 0 0" xyz="-0.005 0 -0.006"/>
    <parent link="index_biotac_tip"/>
    <child link="index_biotac_surface"/>
  </joint>
  <!-- gazebo -->
  <link name="middle_tip">
    <visual>
      <!--origin rpy="0.1 0 1.57" xyz="0.0102 -0.01  -0.055" /-->
      <origin rpy="0.0 1.57 1.57" xyz="-0.00277 0.0  -0.00545"/>
      <geometry>
        <mesh filename="package://ll4ma_robots_description/meshes/biotac/base_visual.stl"/>
      </geometry>
      <material name="Grey">
        <color rgba="0.2 0.2 0.2 1"/>
      </material>
    </visual>
    <collision>
      <origin rpy="0.0 1.57 1.57" xyz="-0.00277 0.0  -0.00545"/>
      <geometry>
        <mesh filename="package://ll4ma_robots_description/meshes/biotac/base_collision.stl"/>
      </geometry>
    </collision>
    <inertial>
      <mass value="0.021"/>
      <origin rpy="0 0 0" xyz="0 0 0"/>
      <inertia ixx="9.68e-07" ixy="0" ixz="0" iyy="9.68e-07" iyz="0" izz="9.68e-07"/>
    </inertial>
  </link>
  <joint name="middle_tip_joint" type="fixed">
    <parent link="middle_link_3"/>
    <child link="middle_tip"/>
    <origin rpy="0 0 0" xyz="0.008 0.0 0.04"/>
  </joint>
  <link name="middle_biotac_nail">
    <visual>
      <origin rpy="0 0 0.0" xyz="0.00 -0.00  -0.0"/>
      <geometry>
        <mesh filename="package://ll4ma_robots_description/meshes/biotac/nail_visual.stl"/>
      </geometry>
      <material name="White">
        <color rgba="1 1 1 1"/>
      </material>
    </visual>
    <collision>
      <origin rpy="0 0 0.0" xyz="0.00 -0.00  -0.0"/>
      <geometry>
        <mesh filename="package://ll4ma_robots_description/meshes/biotac/nail_collision.stl"/>
      </geometry>
      <material name="White">
        <color rgba="1.0 1.0 1.0 1"/>
      </material>
    </collision>
    <inertial>
      <mass value="0.00001"/>
      <origin rpy="0 0 0" xyz="0 0 0"/>
      <inertia ixx="9.68e-07" ixy="0" ixz="0" iyy="9.68e-07" iyz="0" izz="9.68e-07"/>
    </inertial>
  </link>
  <joint name="middle_biotac_nail_joint" type="fixed">
    <origin rpy="-1.57 1.57 0" xyz="-0.0022 0.0 -0.0055"/>
    <!--axis xyz="0 0 1"/-->
    <parent link="middle_tip"/>
    <child link="middle_biotac_nail"/>
  </joint>
  <link name="middle_biotac_tip">
    <visual>
      <origin rpy="1.57 0.351 3.141" xyz="-0.021 -0.002  -0.004"/>
      <geometry>
        <mesh filename="package://ll4ma_robots_description/meshes/biotac/contact_visual.stl"/>
      </geometry>
      <material name="Green">
        <color rgba="0.0 0.8 .0 1"/>
      </material>
    </visual>
    <collision>
      <origin rpy="1.57 0.351 3.141" xyz="-0.021 -0.002  -0.004"/>
      <geometry>
        <mesh filename="package://ll4ma_robots_description/meshes/biotac/contact_collision_small.stl"/>
      </geometry>
      <material name="Green">
        <color rgba="0.0 0.8 .0 1"/>
      </material>
    </collision>
    <inertial>
      <mass value="0.00001"/>
      <origin rpy="0 0 0" xyz="0 0 0"/>
      <inertia ixx="9.68e-07" ixy="0" ixz="0" iyy="9.68e-07" iyz="0" izz="9.68e-07"/>
    </inertial>
  </link>
  <joint name="middle_biotac_joint" type="fixed">
    <origin rpy="1.57  0. -2.791" xyz="-0.021 -0.003 0.002"/>
    <!--axis xyz="0 0 1"/-->
    <parent link="middle_biotac_nail"/>
    <child link="middle_biotac_tip"/>
  </joint>
  <link name="middle_biotac_origin">
    <inertial>
      <mass value="0.00001"/>
      <origin rpy="0 0 0" xyz="0 0 0"/>
      <inertia ixx="9.68e-07" ixy="0" ixz="0" iyy="9.68e-07" iyz="0" izz="9.68e-07"/>
    </inertial>
  </link>
  <joint name="middle_tip_bt" type="fixed">
    <origin rpy="0.0 -1.22129414408 0.0" xyz="0.0005 0.00155 0.0155"/>
    <!--origin rpy="${0.0 * pi} ${-0.38875 * pi} ${0.0 * pi}" xyz="0.0005 0.00155 0.0155"/-->
    <parent link="middle_tip"/>
    <child link="middle_biotac_origin"/>
  </joint>
  <!-- virtual link on surface of the biotac -->
  <link name="middle_biotac_surface">
    <!--  <visual>
	<origin rpy="1.57 0.351 3.141" xyz="-0.021 -0.002  -0.004" />
        <geometry>
          <mesh filename="package://ll4ma_robots_description/meshes/biotac/contact_visual.stl" />
        </geometry>
        <material name="Green">
          <color rgba="0.0 0.8 .0 1" />
        </material>
      </visual>
      <collision>
	<origin rpy="1.57 0.351 3.141" xyz="-0.021 -0.002  -0.004" />
        <geometry>
          <mesh filename="package://ll4ma_robots_description/meshes/biotac/contact_collision_small.stl" />
        </geometry>
        <material name="Green">
          <color rgba="0.0 0.8 .0 1" />
        </material>
    </collision>
    <inertial>
        <mass value="0.00001" />
        <origin xyz="0 0 0" rpy="0 0 0" />
        <inertia ixx="9.68e-07" ixy="0" ixz="0" iyy="9.68e-07" iyz="0" izz="9.68e-07" />
    </inertial>
    -->
  </link>
  <joint name="middle_biotac_surface_joint" type="fixed">
    <origin rpy="0 0 0" xyz="-0.005 0 -0.006"/>
    <parent link="middle_biotac_tip"/>
    <child link="middle_biotac_surface"/>
  </joint>
  <!-- gazebo -->
  <link name="ring_tip">
    <visual>
      <!--origin rpy="0.1 0 1.57" xyz="0.0102 -0.01  -0.055" /-->
      <origin rpy="0.0 1.57 1.57" xyz="-0.00277 0.0  -0.00545"/>
      <geometry>
        <mesh filename="package://ll4ma_robots_description/meshes/biotac/base_visual.stl"/>
      </geometry>
      <material name="Grey">
        <color rgba="0.2 0.2 0.2 1"/>
      </material>
    </visual>
    <collision>
      <origin rpy="0.0 1.57 1.57" xyz="-0.00277 0.0  -0.00545"/>
      <geometry>
        <mesh filename="package://ll4ma_robots_description/meshes/biotac/base_collision.stl"/>
      </geometry>
    </collision>
    <inertial>
      <mass value="0.021"/>
      <origin rpy="0 0 0" xyz="0 0 0"/>
      <inertia ixx="9.68e-07" ixy="0" ixz="0" iyy="9.68e-07" iyz="0" izz="9.68e-07"/>
    </inertial>
  </link>
  <joint name="ring_tip_joint" type="fixed">
    <parent link="ring_link_3"/>
    <child link="ring_tip"/>
    <origin rpy="0 0 0" xyz="0.008 0.0 0.04"/>
  </joint>
  <link name="ring_biotac_nail">
    <visual>
      <origin rpy="0 0 0.0" xyz="0.00 -0.00  -0.0"/>
      <geometry>
        <mesh filename="package://ll4ma_robots_description/meshes/biotac/nail_visual.stl"/>
      </geometry>
      <material name="White">
        <color rgba="1 1 1 1"/>
      </material>
    </visual>
    <collision>
      <origin rpy="0 0 0.0" xyz="0.00 -0.00  -0.0"/>
      <geometry>
        <mesh filename="package://ll4ma_robots_description/meshes/biotac/nail_collision.stl"/>
      </geometry>
      <material name="White">
        <color rgba="1.0 1.0 1.0 1"/>
      </material>
    </collision>
    <inertial>
      <mass value="0.00001"/>
      <origin rpy="0 0 0" xyz="0 0 0"/>
      <inertia ixx="9.68e-07" ixy="0" ixz="0" iyy="9.68e-07" iyz="0" izz="9.68e-07"/>
    </inertial>
  </link>
  <joint name="ring_biotac_nail_joint" type="fixed">
    <origin rpy="-1.57 1.57 0" xyz="-0.0022 0.0 -0.0055"/>
    <!--axis xyz="0 0 1"/-->
    <parent link="ring_tip"/>
    <child link="ring_biotac_nail"/>
  </joint>
  <link name="ring_biotac_tip">
    <visual>
      <origin rpy="1.57 0.351 3.141" xyz="-0.021 -0.002  -0.004"/>
      <geometry>
        <mesh filename="package://ll4ma_robots_description/meshes/biotac/contact_visual.stl"/>
      </geometry>
      <material name="Green">
        <color rgba="0.0 0.8 .0 1"/>
      </material>
    </visual>
    <collision>
      <origin rpy="1.57 0.351 3.141" xyz="-0.021 -0.002  -0.004"/>
      <geometry>
        <mesh filename="package://ll4ma_robots_description/meshes/biotac/contact_collision_small.stl"/>
      </geometry>
      <material name="Green">
        <color rgba="0.0 0.8 .0 1"/>
      </material>
    </collision>
    <inertial>
      <mass value="0.00001"/>
      <origin rpy="0 0 0" xyz="0 0 0"/>
      <inertia ixx="9.68e-07" ixy="0" ixz="0" iyy="9.68e-07" iyz="0" izz="9.68e-07"/>
    </inertial>
  </link>
  <joint name="ring_biotac_joint" type="fixed">
    <origin rpy="1.57  0. -2.791" xyz="-0.021 -0.003 0.002"/>
    <!--axis xyz="0 0 1"/-->
    <parent link="ring_biotac_nail"/>
    <child link="ring_biotac_tip"/>
  </joint>
  <link name="ring_biotac_origin">
    <inertial>
      <mass value="0.00001"/>
      <origin rpy="0 0 0" xyz="0 0 0"/>
      <inertia ixx="9.68e-07" ixy="0" ixz="0" iyy="9.68e-07" iyz="0" izz="9.68e-07"/>
    </inertial>
  </link>
  <joint name="ring_tip_bt" type="fixed">
    <origin rpy="0.0 -1.22129414408 0.0" xyz="0.0005 0.00155 0.0155"/>
    <!--origin rpy="${0.0 * pi} ${-0.38875 * pi} ${0.0 * pi}" xyz="0.0005 0.00155 0.0155"/-->
    <parent link="ring_tip"/>
    <child link="ring_biotac_origin"/>
  </joint>
  <!-- virtual link on surface of the biotac -->
  <link name="ring_biotac_surface">
    <!--  <visual>
	<origin rpy="1.57 0.351 3.141" xyz="-0.021 -0.002  -0.004" />
        <geometry>
          <mesh filename="package://ll4ma_robots_description/meshes/biotac/contact_visual.stl" />
        </geometry>
        <material name="Green">
          <color rgba="0.0 0.8 .0 1" />
        </material>
      </visual>
      <collision>
	<origin rpy="1.57 0.351 3.141" xyz="-0.021 -0.002  -0.004" />
        <geometry>
          <mesh filename="package://ll4ma_robots_description/meshes/biotac/contact_collision_small.stl" />
        </geometry>
        <material name="Green">
          <color rgba="0.0 0.8 .0 1" />
        </material>
    </collision>
    <inertial>
        <mass value="0.00001" />
        <origin xyz="0 0 0" rpy="0 0 0" />
        <inertia ixx="9.68e-07" ixy="0" ixz="0" iyy="9.68e-07" iyz="0" izz="9.68e-07" />
    </inertial>
    -->
  </link>
  <joint name="ring_biotac_surface_joint" type="fixed">
    <origin rpy="0 0 0" xyz="-0.005 0 -0.006"/>
    <parent link="ring_biotac_tip"/>
    <child link="ring_biotac_surface"/>
  </joint>
  <!-- gazebo -->
  <link name="thumb_tip">
    <visual>
      <!--origin rpy="0.1 0 1.57" xyz="0.0102 -0.01  -0.055" /-->
      <origin rpy="0.0 1.57 1.57" xyz="-0.00277 0.0  -0.00545"/>
      <geometry>
        <mesh filename="package://ll4ma_robots_description/meshes/biotac/base_visual.stl"/>
      </geometry>
      <material name="Grey">
        <color rgba="0.2 0.2 0.2 1"/>
      </material>
    </visual>
    <collision>
      <origin rpy="0.0 1.57 1.57" xyz="-0.00277 0.0  -0.00545"/>
      <geometry>
        <mesh filename="package://ll4ma_robots_description/meshes/biotac/base_collision.stl"/>
      </geometry>
    </collision>
    <inertial>
      <mass value="0.021"/>
      <origin rpy="0 0 0" xyz="0 0 0"/>
      <inertia ixx="9.68e-07" ixy="0" ixz="0" iyy="9.68e-07" iyz="0" izz="9.68e-07"/>
    </inertial>
  </link>
  <joint name="thumb_tip_joint" type="fixed">
    <parent link="thumb_link_3_offset"/>
    <child link="thumb_tip"/>
    <origin rpy="0 0 0" xyz="0.008 0.0 0.04"/>
  </joint>
  <link name="thumb_biotac_nail">
    <visual>
      <origin rpy="0 0 0.0" xyz="0.00 -0.00  -0.0"/>
      <geometry>
        <mesh filename="package://ll4ma_robots_description/meshes/biotac/nail_visual.stl"/>
      </geometry>
      <material name="White">
        <color rgba="1 1 1 1"/>
      </material>
    </visual>
    <collision>
      <origin rpy="0 0 0.0" xyz="0.00 -0.00  -0.0"/>
      <geometry>
        <mesh filename="package://ll4ma_robots_description/meshes/biotac/nail_collision.stl"/>
      </geometry>
      <material name="White">
        <color rgba="1.0 1.0 1.0 1"/>
      </material>
    </collision>
    <inertial>
      <mass value="0.00001"/>
      <origin rpy="0 0 0" xyz="0 0 0"/>
      <inertia ixx="9.68e-07" ixy="0" ixz="0" iyy="9.68e-07" iyz="0" izz="9.68e-07"/>
    </inertial>
  </link>
  <joint name="thumb_biotac_nail_joint" type="fixed">
    <origin rpy="-1.57 1.57 0" xyz="-0.0022 0.0 -0.0055"/>
    <!--axis xyz="0 0 1"/-->
    <parent link="thumb_tip"/>
    <child link="thumb_biotac_nail"/>
  </joint>
  <link name="thumb_biotac_tip">
    <visual>
      <origin rpy="1.57 0.351 3.141" xyz="-0.021 -0.002  -0.004"/>
      <geometry>
        <mesh filename="package://ll4ma_robots_description/meshes/biotac/contact_visual.stl"/>
      </geometry>
      <material name="Green">
        <color rgba="0.0 0.8 .0 1"/>
      </material>
    </visual>
    <collision>
      <origin rpy="1.57 0.351 3.141" xyz="-0.021 -0.002  -0.004"/>
      <geometry>
        <mesh filename="package://ll4ma_robots_description/meshes/biotac/contact_collision_small.stl"/>
      </geometry>
      <material name="Green">
        <color rgba="0.0 0.8 .0 1"/>
      </material>
    </collision>
    <inertial>
      <mass value="0.00001"/>
      <origin rpy="0 0 0" xyz="0 0 0"/>
      <inertia ixx="9.68e-07" ixy="0" ixz="0" iyy="9.68e-07" iyz="0" izz="9.68e-07"/>
    </inertial>
  </link>
  <joint name="thumb_biotac_joint" type="fixed">
    <origin rpy="1.57  0. -2.791" xyz="-0.021 -0.003 0.002"/>
    <!--axis xyz="0 0 1"/-->
    <parent link="thumb_biotac_nail"/>
    <child link="thumb_biotac_tip"/>
  </joint>
  <link name="thumb_biotac_origin">
    <inertial>
      <mass value="0.00001"/>
      <origin rpy="0 0 0" xyz="0 0 0"/>
      <inertia ixx="9.68e-07" ixy="0" ixz="0" iyy="9.68e-07" iyz="0" izz="9.68e-07"/>
    </inertial>
  </link>
  <joint name="thumb_tip_bt" type="fixed">
    <origin rpy="0.0 -1.22129414408 0.0" xyz="0.0005 0.00155 0.0155"/>
    <!--origin rpy="${0.0 * pi} ${-0.38875 * pi} ${0.0 * pi}" xyz="0.0005 0.00155 0.0155"/-->
    <parent link="thumb_tip"/>
    <child link="thumb_biotac_origin"/>
  </joint>
  <!-- virtual link on surface of the biotac -->
  <link name="thumb_biotac_surface">
    <!--  <visual>
	<origin rpy="1.57 0.351 3.141" xyz="-0.021 -0.002  -0.004" />
        <geometry>
          <mesh filename="package://ll4ma_robots_description/meshes/biotac/contact_visual.stl" />
        </geometry>
        <material name="Green">
          <color rgba="0.0 0.8 .0 1" />
        </material>
      </visual>
      <collision>
	<origin rpy="1.57 0.351 3.141" xyz="-0.021 -0.002  -0.004" />
        <geometry>
          <mesh filename="package://ll4ma_robots_description/meshes/biotac/contact_collision_small.stl" />
        </geometry>
        <material name="Green">
          <color rgba="0.0 0.8 .0 1" />
        </material>
    </collision>
    <inertial>
        <mass value="0.00001" />
        <origin xyz="0 0 0" rpy="0 0 0" />
        <inertia ixx="9.68e-07" ixy="0" ixz="0" iyy="9.68e-07" iyz="0" izz="9.68e-07" />
    </inertial>
    -->
  </link>
  <joint name="thumb_biotac_surface_joint" type="fixed">
    <origin rpy="0 0 0" xyz="-0.005 0 -0.006"/>
    <parent link="thumb_biotac_tip"/>
    <child link="thumb_biotac_surface"/>
  </joint>
  <!-- gazebo -->
  <!--/xacro:unless-->
  <gazebo reference="lbr4_mount">
    <material>Gazebo/Grey</material>
  </gazebo>
  <link name="lbr4_mount">
    <inertial>
      <origin rpy="0 0 0" xyz="0 0 0"/>
      <mass value="0.24"/>
      <inertia ixx="0.000126" ixy="0.0" ixz="0.0" iyy="0.000126" iyz="0.0" izz="0.000243"/>
    </inertial>
    <visual>
      <origin rpy="0 0 0" xyz="0 0 0"/>
      <geometry>
        <mesh filename="package://ll4ma_robots_description/meshes/mounts/kuka_mount.stl"/>
      </geometry>
      <material name="LBR4_Grey"/>
    </visual>
    <collision>
      <origin rpy="0 0 0" xyz="0 0 0"/>
      <geometry>
        <mesh filename="package://ll4ma_robots_description/meshes/mounts/kuka_mount.stl"/>
      </geometry>
    </collision>
  </link>
  <joint name="lbr4_mount_joint" type="fixed">
    <origin rpy="-3.14159265359 0 0" xyz="0.0 0.0 0.02"/>
    <parent link="optoforce_offset_link"/>
    <child link="lbr4_mount"/>
  </joint>
  <joint name="lbr4_allegro" type="fixed">
    <parent link="lbr4_mount"/>
    <child link="allegro_mount"/>
    <origin rpy="0 1.57 0" xyz="-0.0 0 -0.0"/>
  </joint>
</robot>
